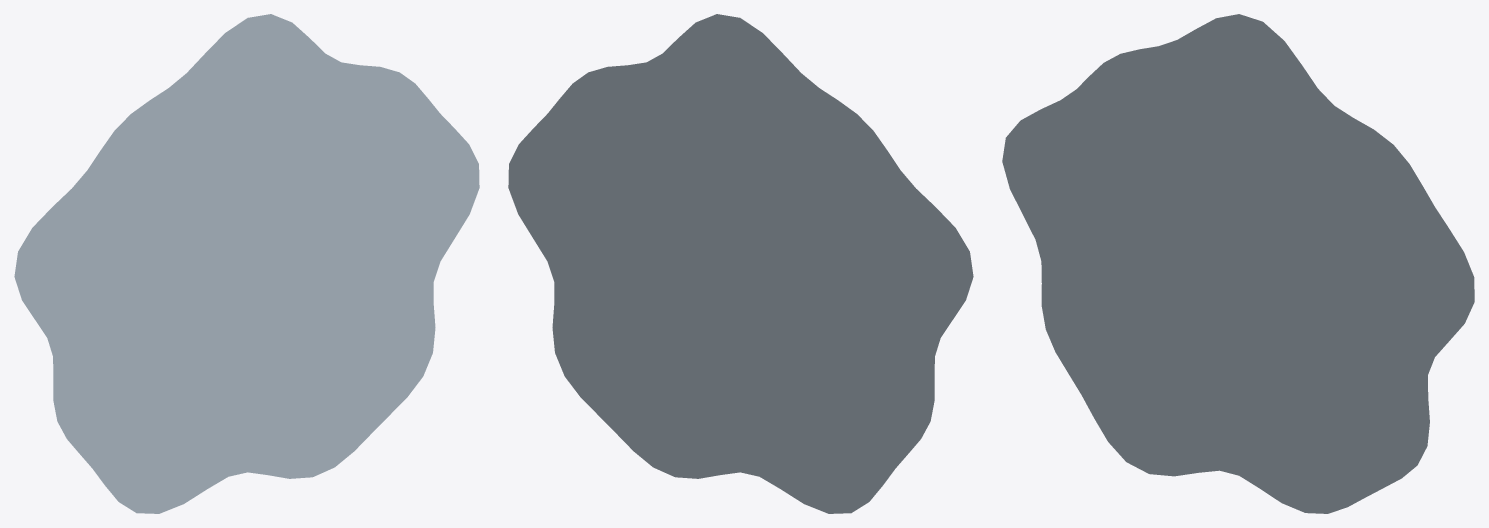
The model's file is 2073_PhantomDashes_ThreePasses_Mist.fbx.
The picture shows the model from 3 angles, left to right: view 1: azimuth 30°, elevation 25°; view 2: azimuth 150°, elevation 25°; view 3: azimuth 330°, elevation 25°; orthographic projection.
Parts seen in each view (by area): view 1: PART_ThinIrregularMist; view 2: PART_ThinIrregularMist; view 3: PART_ThinIrregularMist.
Part boxes in pixels (bbox=[...]): PART_ThinIrregularMist: bbox=[14, 14, 479, 513]; PART_ThinIrregularMist: bbox=[508, 14, 973, 513]; PART_ThinIrregularMist: bbox=[1002, 14, 1474, 513].
Bounding box in the file's own units: 214 × 209 × 3.41e-05.
